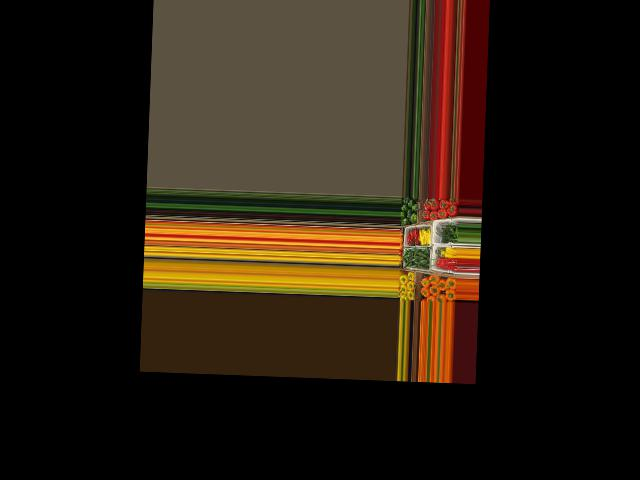bell_pepper: (408, 202, 419, 213)
